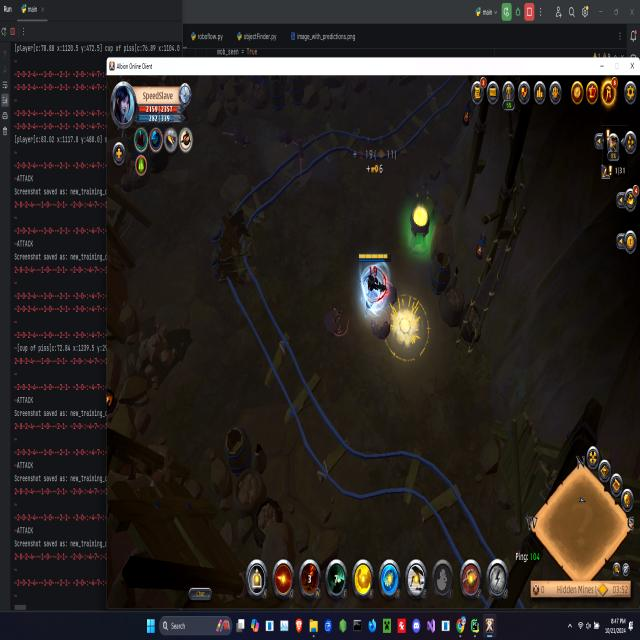fiber: (404, 194, 433, 256)
ore: (220, 122, 257, 149), (272, 123, 298, 153), (292, 135, 311, 176)
red: (356, 246, 393, 308)
